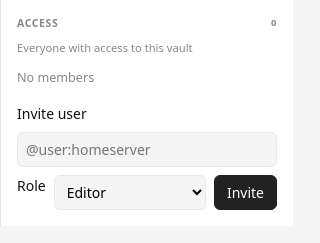
Test case: MembersPanel access state › does not refresh or clear an invite after ownership is revoked in flight
In the field with test id "share-user-id": (147, 150) [17,132,277,167], type "@bob:localhost"
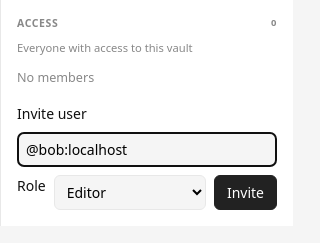
Click the button with test id "share-submit": (245, 193) [214,175,277,210]
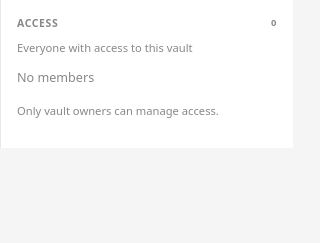
Now the button with test id "share-submit" is gone
